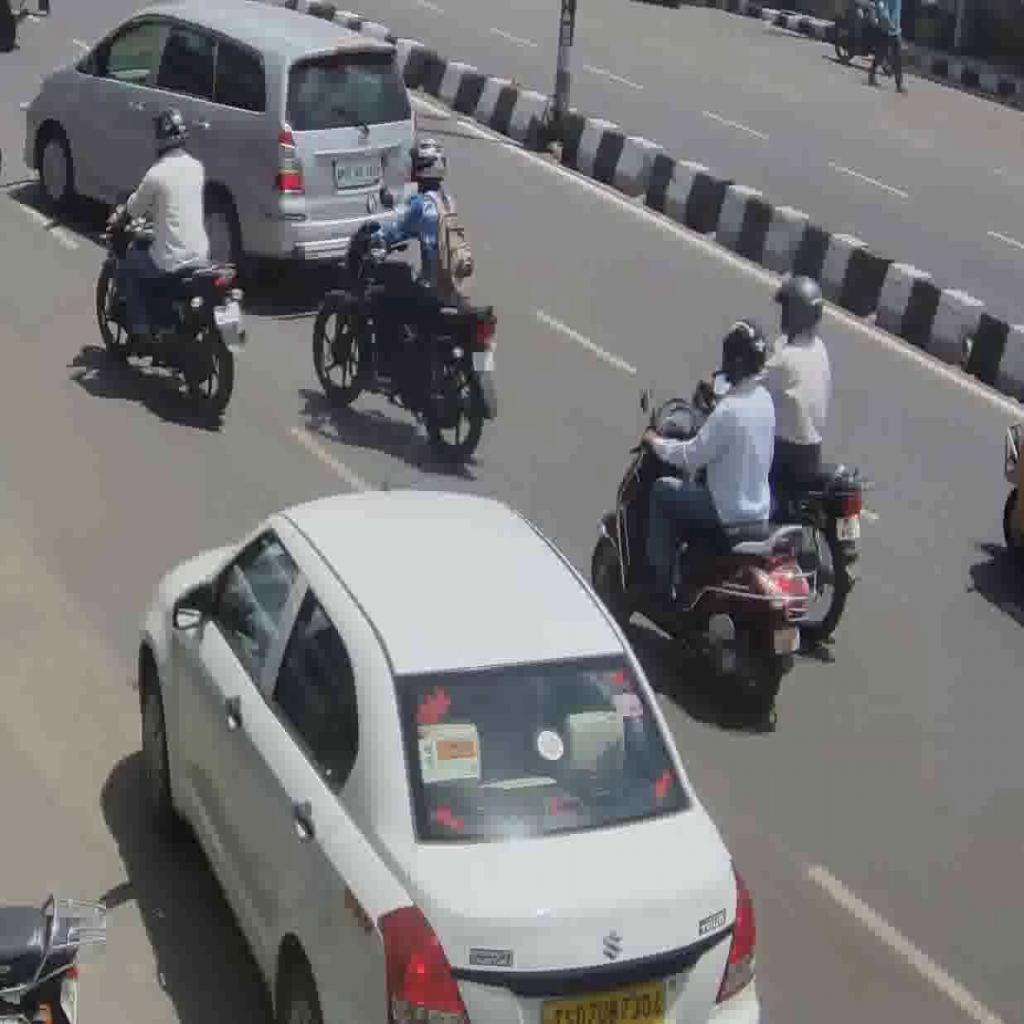helmet: (588, 385, 813, 721), (691, 362, 867, 643), (312, 213, 502, 467), (94, 188, 248, 419)
